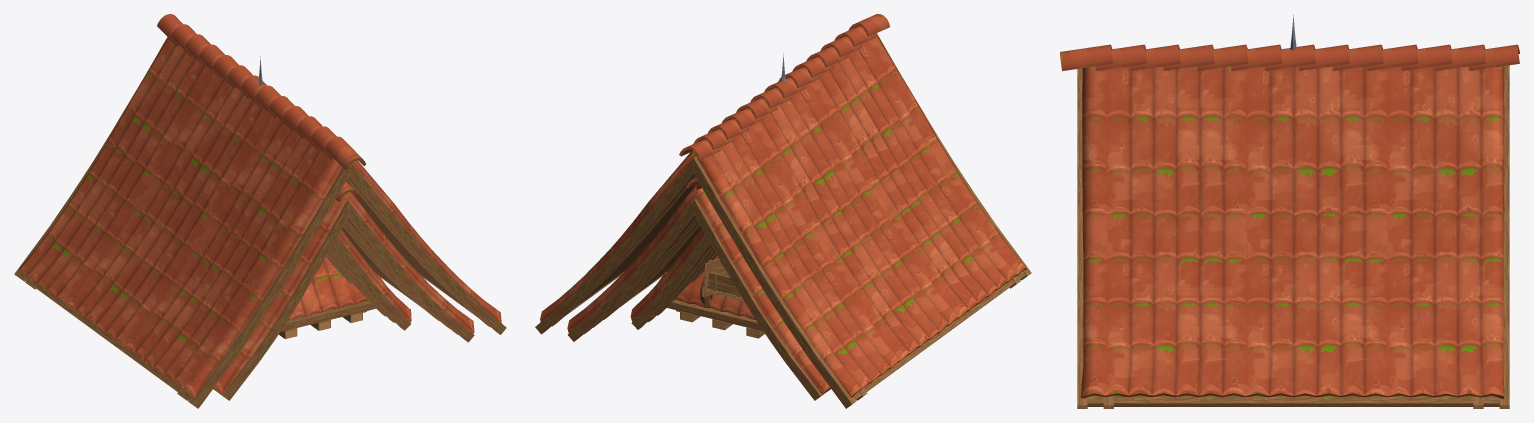
The model's file is pecas.glb.
The picture shows the model from 3 angles, left to right: view 1: azimuth 30°, elevation 25°; view 2: azimuth 150°, elevation 25°; view 3: azimuth 270°, elevation 25°; orthographic projection. The views are drawn at different scales.
Parts seen in each view (by area): view 1: Roof_RoundTiles_8x8, Roof_RoundTiles_6x8, Roof_Tower_RoundTiles, Roof_RoundTiles_4x6, Roof_RoundTiles_6x6; view 2: Roof_RoundTiles_8x8, Roof_RoundTiles_6x8, Roof_Tower_RoundTiles, Roof_RoundTiles_4x6, Prop_Wagon, Roof_RoundTiles_6x6; view 3: Roof_RoundTiles_8x8.
Part boxes in pixels (x1,y1,x2,y2): Roof_RoundTiles_8x8: (14, 14, 506, 408); Roof_RoundTiles_6x8: (213, 181, 474, 400); Roof_Tower_RoundTiles: (258, 56, 385, 338); Roof_RoundTiles_4x6: (330, 229, 411, 330); Roof_RoundTiles_6x6: (342, 222, 449, 328); Roof_RoundTiles_8x8: (535, 14, 1031, 408); Roof_RoundTiles_6x8: (567, 178, 830, 400); Roof_Tower_RoundTiles: (658, 53, 785, 338); Roof_RoundTiles_4x6: (630, 228, 713, 329); Prop_Wagon: (700, 258, 748, 308); Roof_RoundTiles_6x6: (593, 220, 701, 327); Roof_RoundTiles_8x8: (1060, 44, 1519, 408).
Bounding box in the file's own units: 9.95 × 8.91 × 10.33.
11 materials, 10 textured.
